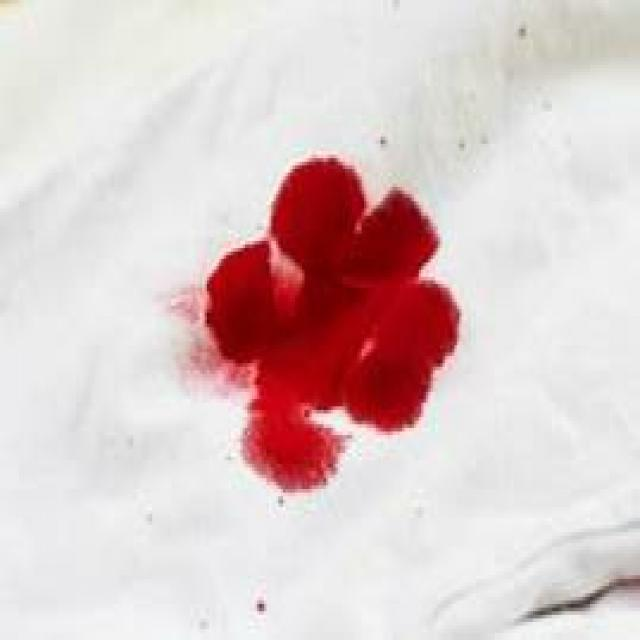wound: (186, 117, 481, 530)
